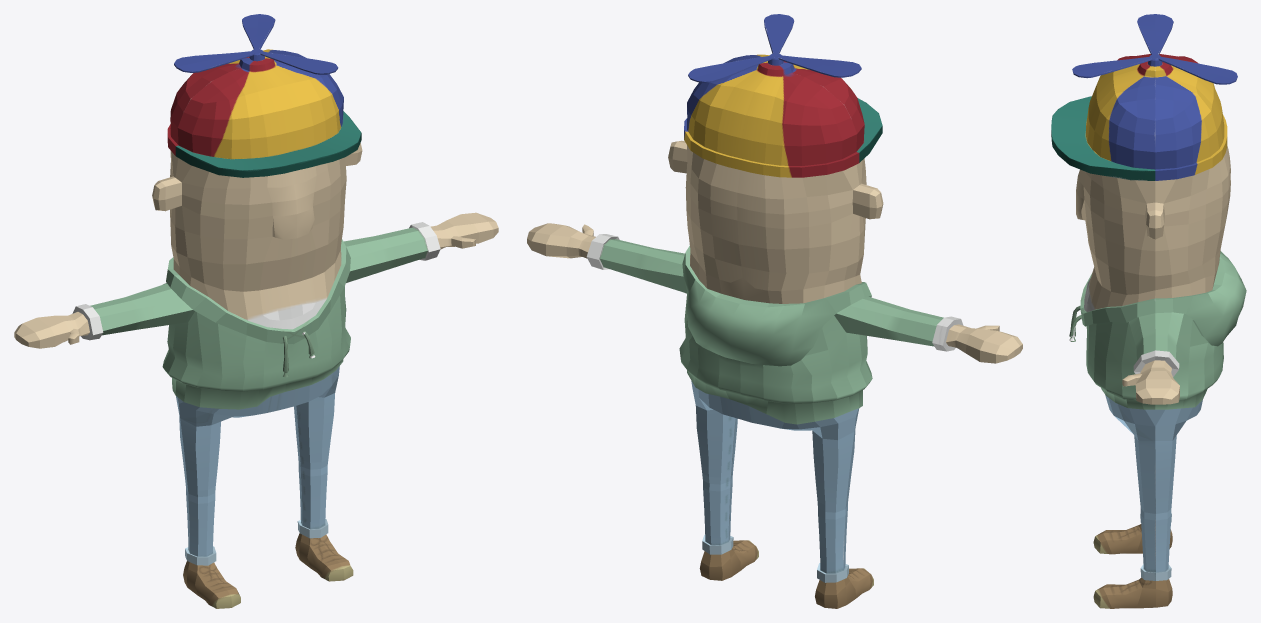
The model's file is Emil.fbx.
The picture shows the model from 3 angles, left to right: view 1: azimuth 30°, elevation 25°; view 2: azimuth 150°, elevation 25°; view 3: azimuth 270°, elevation 25°; orthographic projection. The views are drawn at different scales.
Parts seen in each view (by area): view 1: pCylinder4; view 2: pCylinder4; view 3: pCylinder4.
Part boxes in pixels (box(x1,y1,x2,y2)): pCylinder4: box(14, 14, 498, 608); pCylinder4: box(527, 14, 1022, 608); pCylinder4: box(1051, 14, 1246, 608).
Size of the model in its own units: 12.68 by 13.39 by 4.54.
